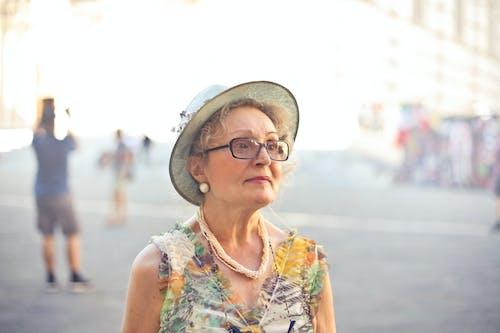spectacles: (224, 128, 292, 168)
